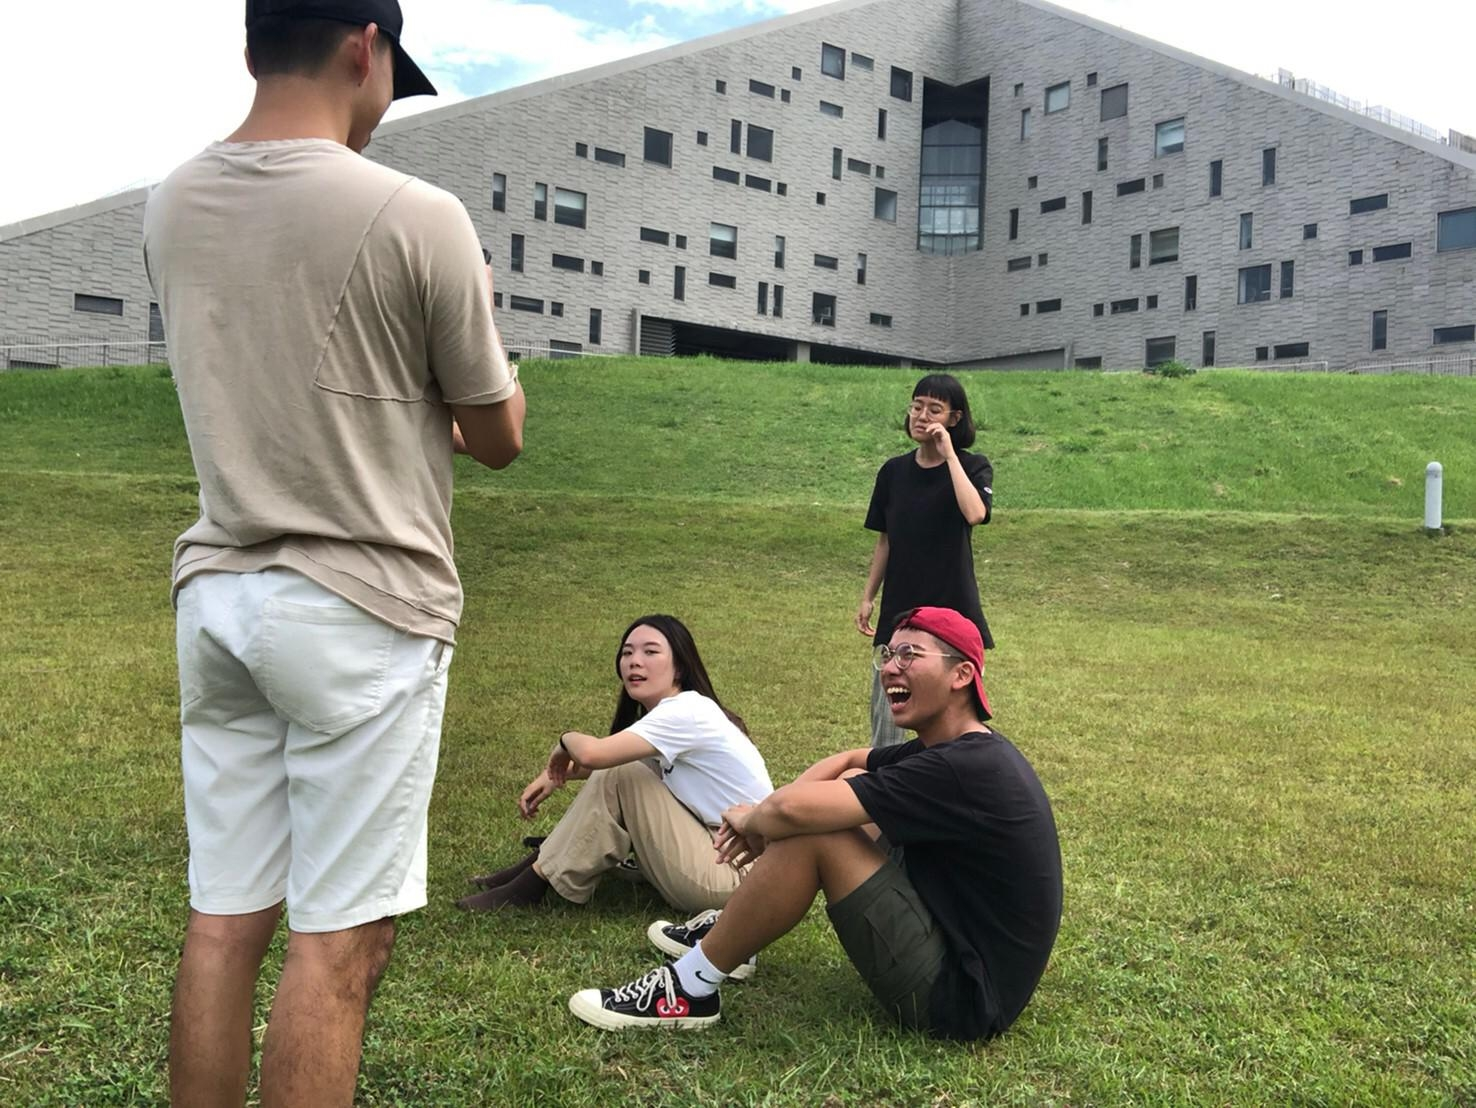people: (170, 7, 472, 1107), (757, 625, 1047, 1040), (555, 617, 770, 896), (887, 375, 997, 771)
